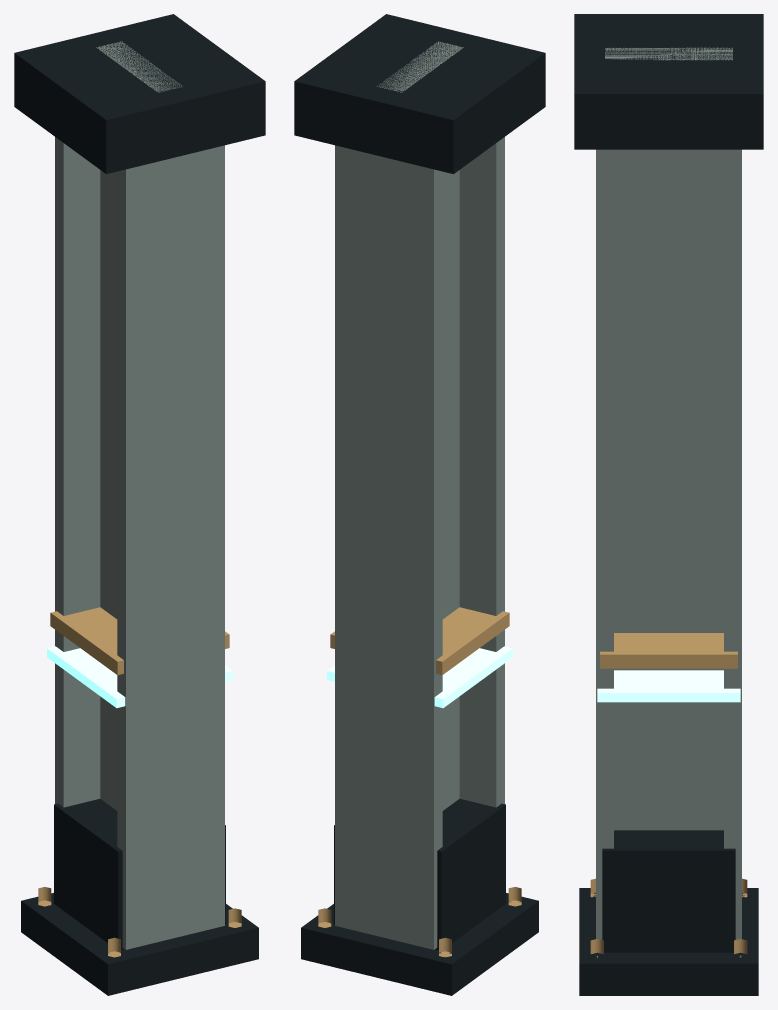
File: column-3p9.glb
3 renders of one model, left to right at view 1: azimuth 30°, elevation 25°; view 2: azimuth 150°, elevation 25°; view 3: azimuth 270°, elevation 25°, orthographic. The views are drawn at different scales.
Parts seen in each view (by area): view 1: column-3p9; view 2: column-3p9; view 3: column-3p9.
Boxes of the visible parts, x1,y1,x2,y2 form: column-3p9: [14, 14, 265, 995]; column-3p9: [294, 14, 545, 995]; column-3p9: [574, 14, 763, 995].
Size of the model in its own units: 0.74 by 3.9 by 0.74.
